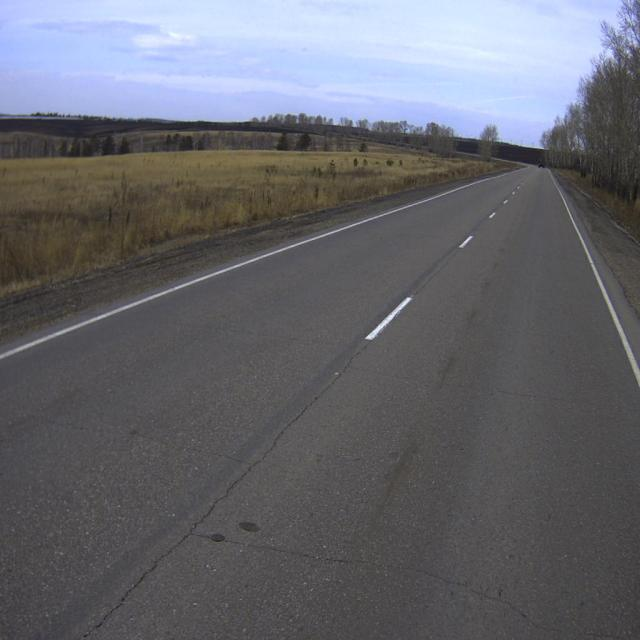road: (0, 164, 640, 639)
